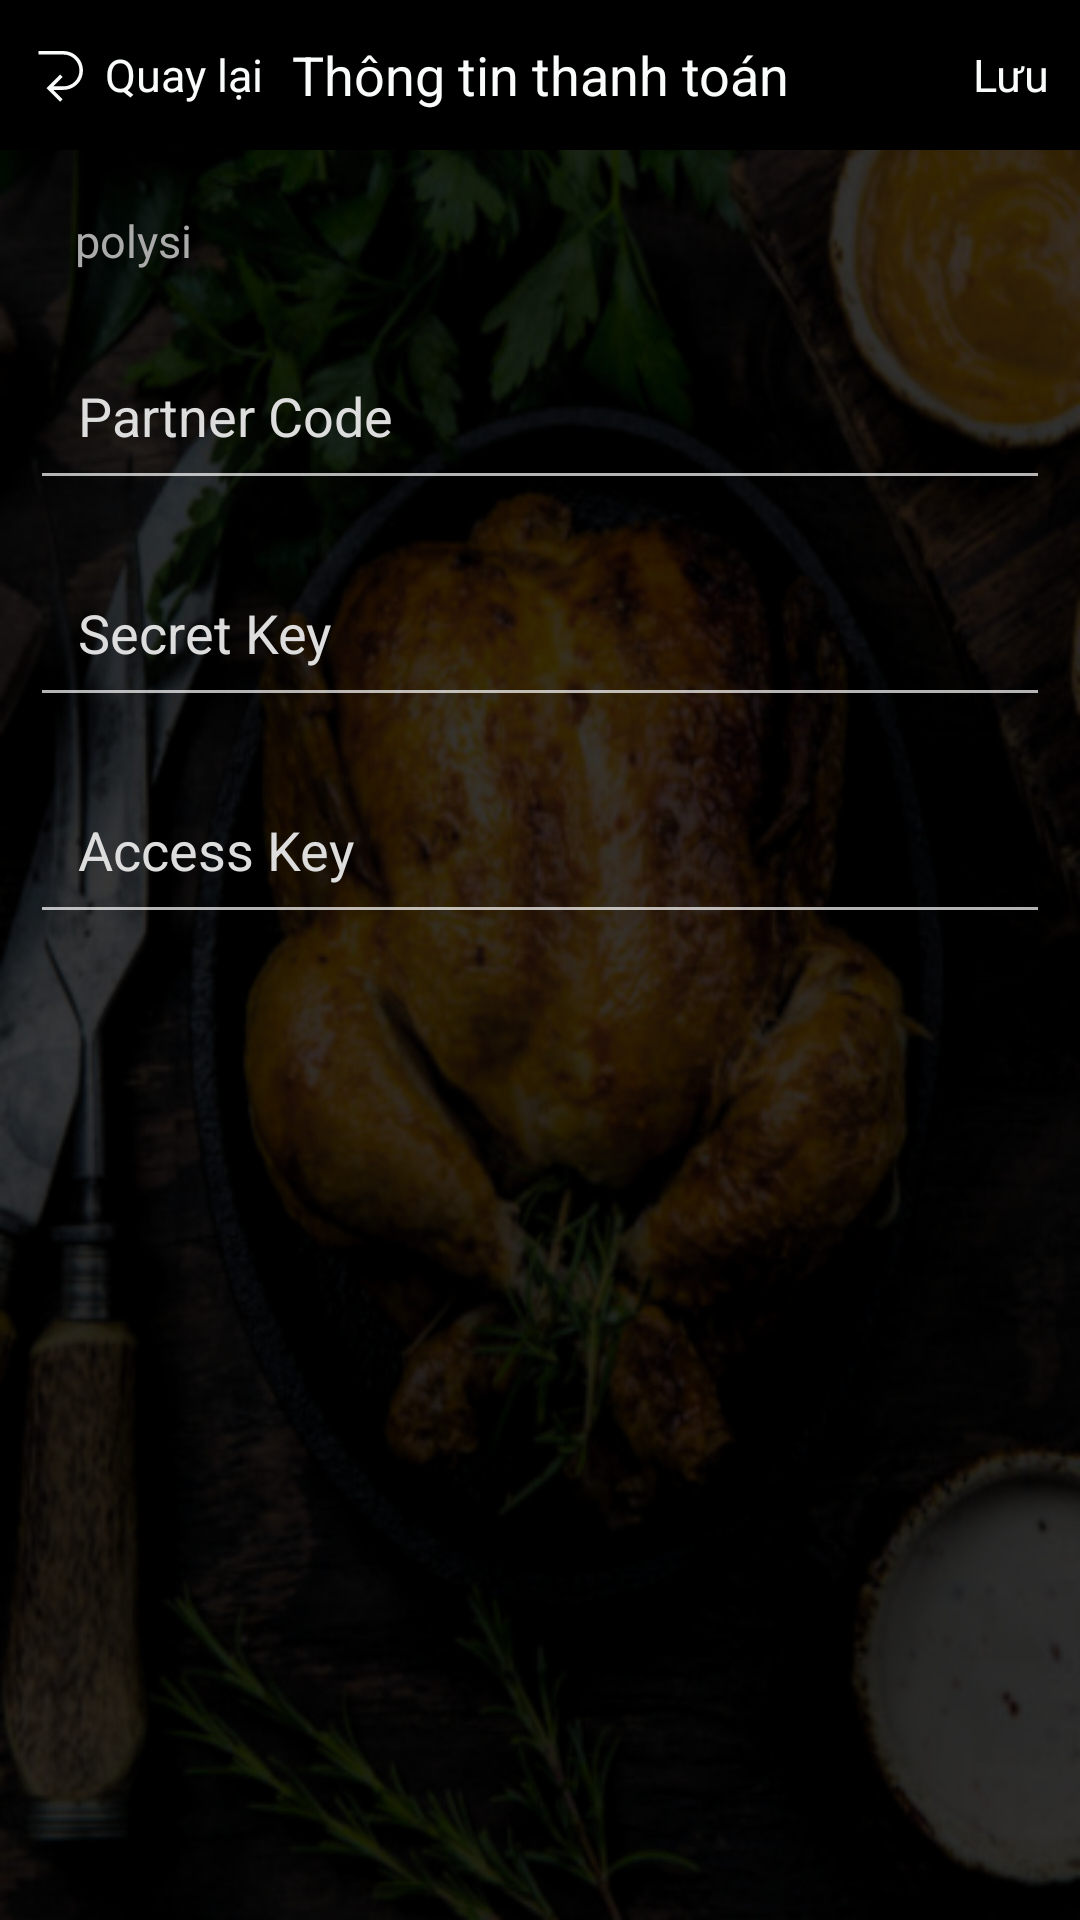

Icons on this 1080px×1920px Android screen, each with its box as (x1, y1, x2, y2):
back left: (38, 51, 83, 102)
